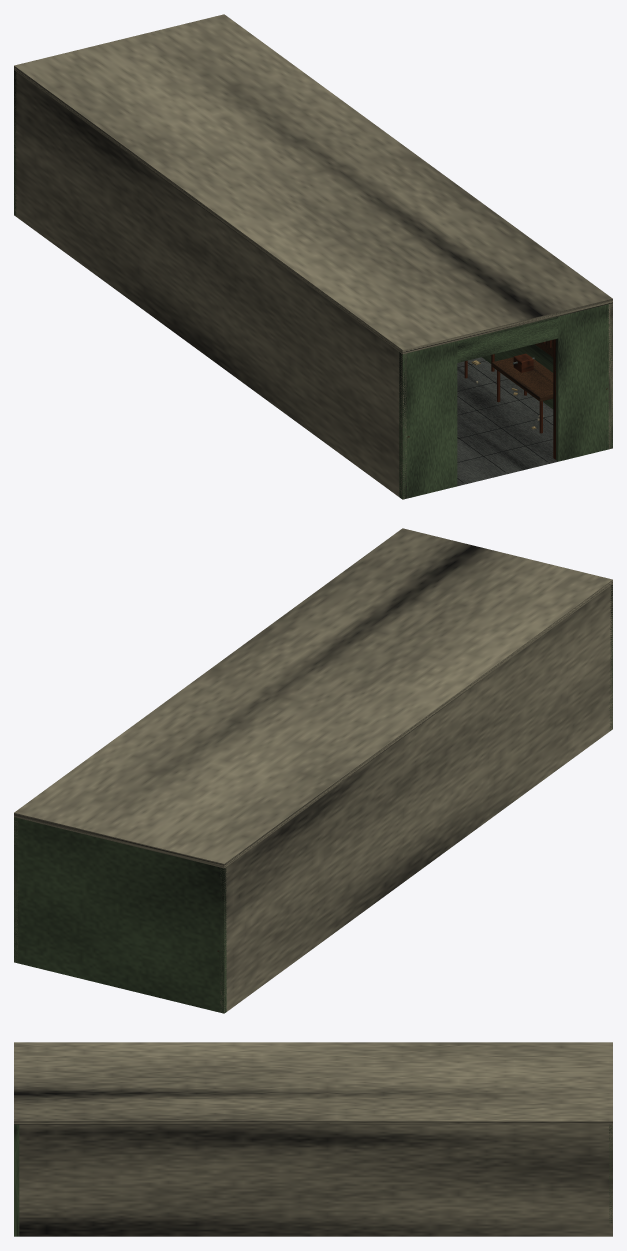
File: workshop.glb
The picture shows the model from 3 angles, top to bottom: view 1: azimuth 30°, elevation 25°; view 2: azimuth 150°, elevation 25°; view 3: azimuth 270°, elevation 25°; orthographic projection. The views are drawn at different scales.
Parts seen in each view (by area): view 1: static-plaster, static-paint, static-stone, static-wood, static-rust; view 2: static-plaster, static-paint; view 3: static-plaster, static-paint.
Boxes of the visible parts, x1,y1,x2,y2 form: static-plaster: (14,14,612,499); static-paint: (14,70,612,499); static-stone: (457,357,557,486); static-wood: (491,340,553,401); static-rust: (407,339,607,459); static-plaster: (14,528,612,1013); static-paint: (14,584,612,1013); static-plaster: (14,1042,612,1236); static-paint: (14,1124,612,1236).
Size of the model in its own units: 5 by 3.4 by 16.
14 materials, 10 textured.
